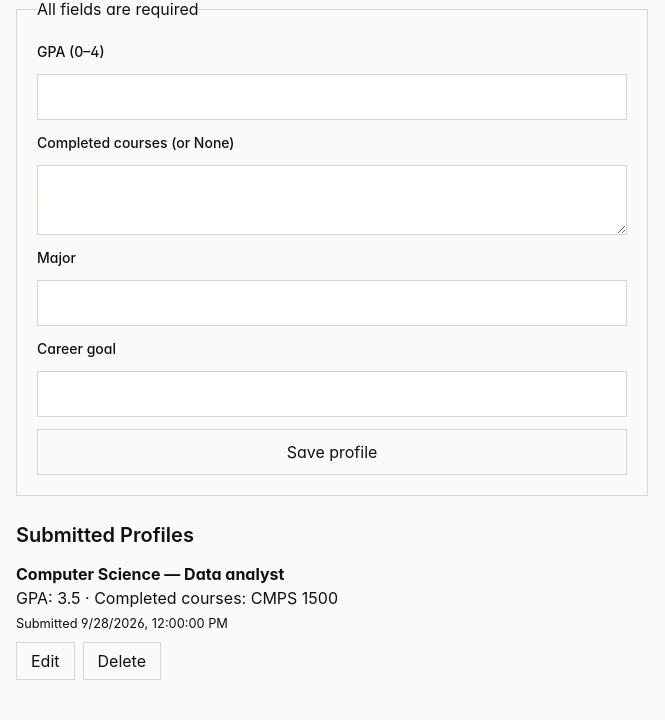
Test: SubmissionsPage — the submitted list › a failed delete keeps the row and shows the error
(page scrolled)
Check: the text "Computer Science — Data analyst" is shown, box [16, 564, 284, 584]
Click the button "Delete" at (122, 661), box [82, 642, 161, 680]
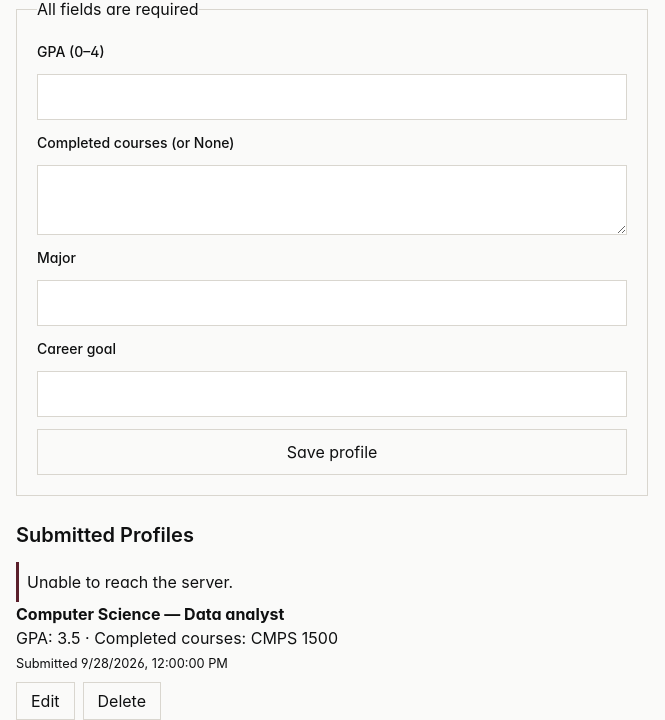
Check: the text "Computer Science — Data analyst" is shown, box [16, 604, 284, 624]
Check: the text "Unable to reach the server." is shown, box [16, 562, 648, 602]
